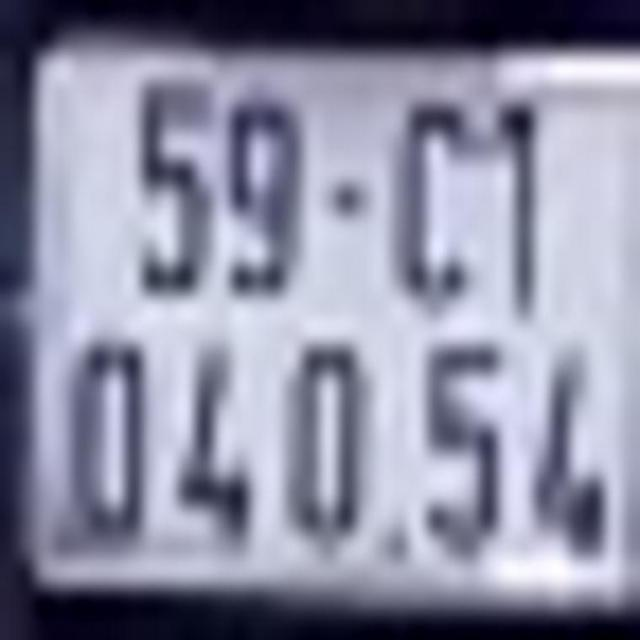0: (63, 324, 147, 538), (286, 335, 366, 556)
1: (488, 86, 550, 324)
4: (528, 333, 617, 572), (179, 333, 253, 552)
5: (407, 336, 504, 561), (136, 74, 212, 293)
9: (227, 84, 304, 303)
C: (392, 83, 471, 320)
